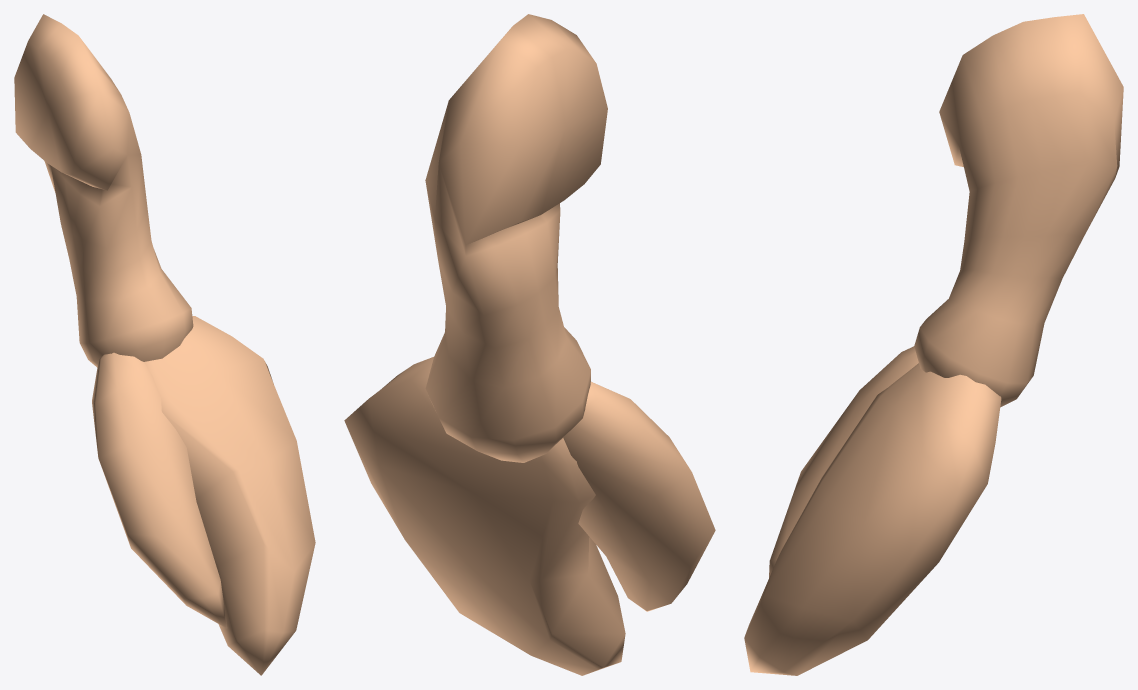
Rendered from crabClaw.fbx.
The picture shows the model from 3 angles, left to right: view 1: azimuth 30°, elevation 25°; view 2: azimuth 150°, elevation 25°; view 3: azimuth 270°, elevation 25°; orthographic projection. The views are drawn at different scales.
Visible parts, largest first — view 1: crabClaw; view 2: crabClaw; view 3: crabClaw.
Part boxes in pixels (x1,y1,x2,y2): crabClaw: (14, 14, 315, 675); crabClaw: (344, 14, 715, 675); crabClaw: (744, 14, 1123, 675).
Bounding box in the file's own units: 34.22 × 87.69 × 48.44.
